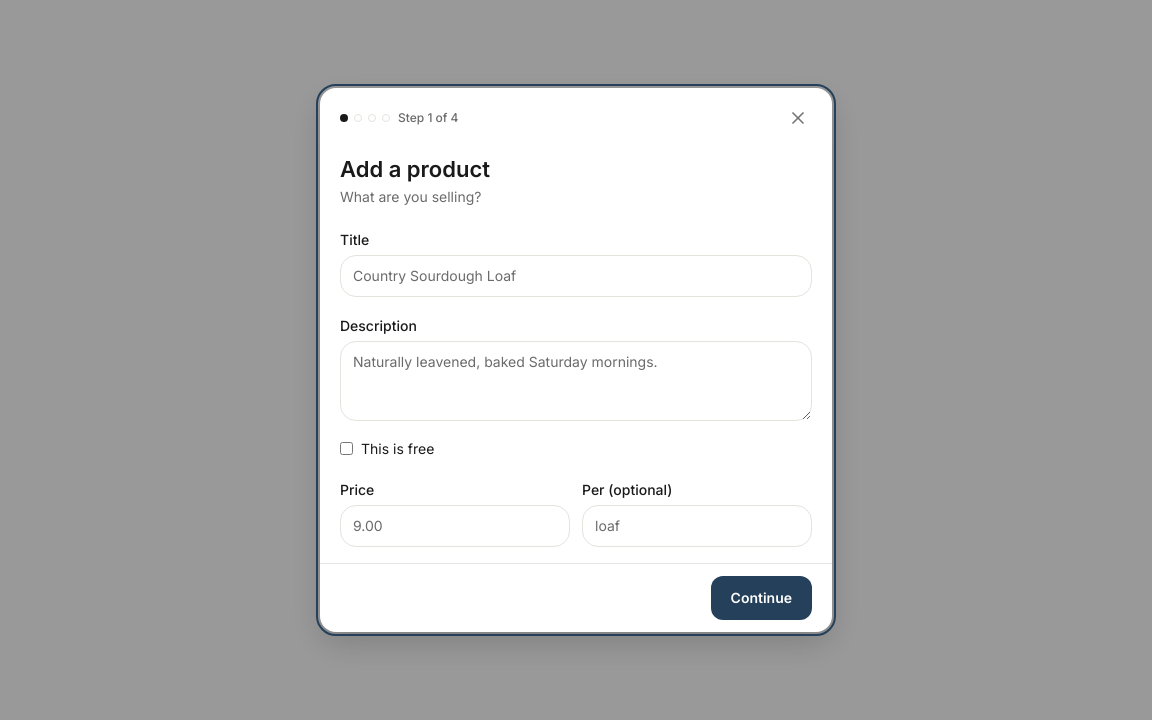
Test: T078 — ProductComposer step 1 (details) › blocks Continue with inline errors when title + description are empty
Click the button "Continue" at (761, 598), box [711,576,812,620]
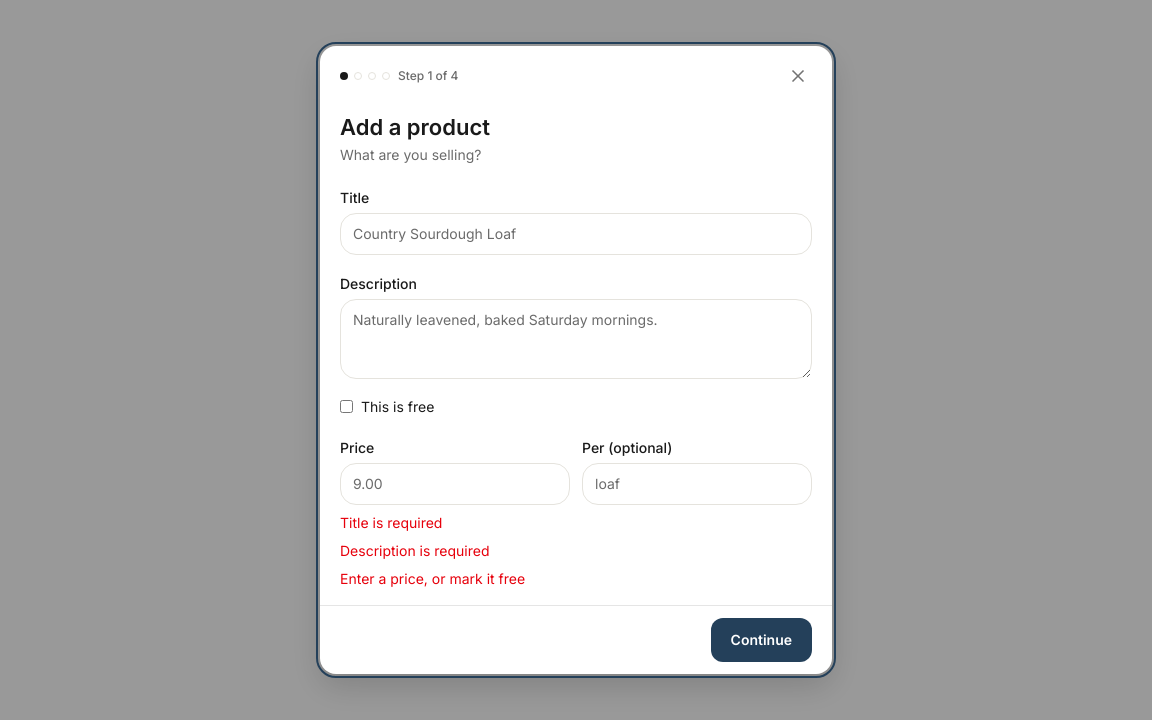
Expected: the field with test id "product-title-input" is shown, [340,213,812,255]
Now the text "Title is required" is shown, box [340,514,442,531]
Now the text "Description is required" is shown, box [340,542,490,559]
